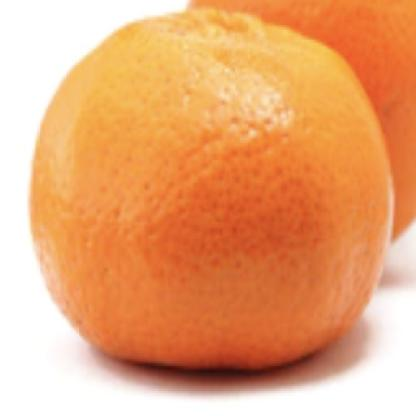fresh: (31, 12, 395, 381)
